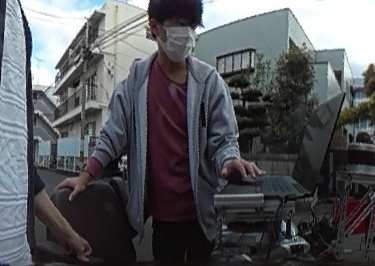person: (98, 0, 251, 266)
